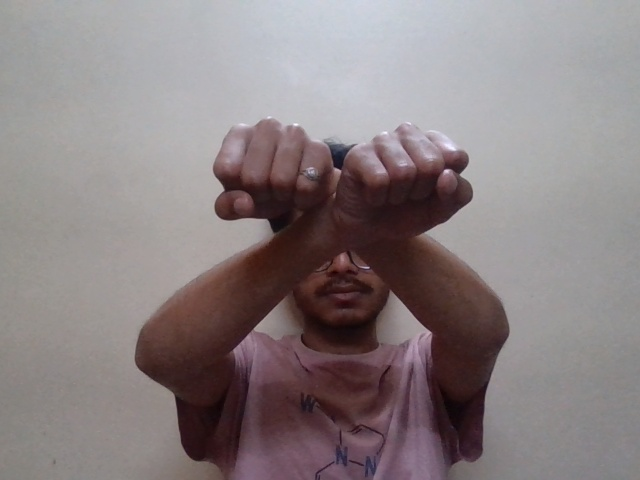work: (212, 117, 469, 268)
